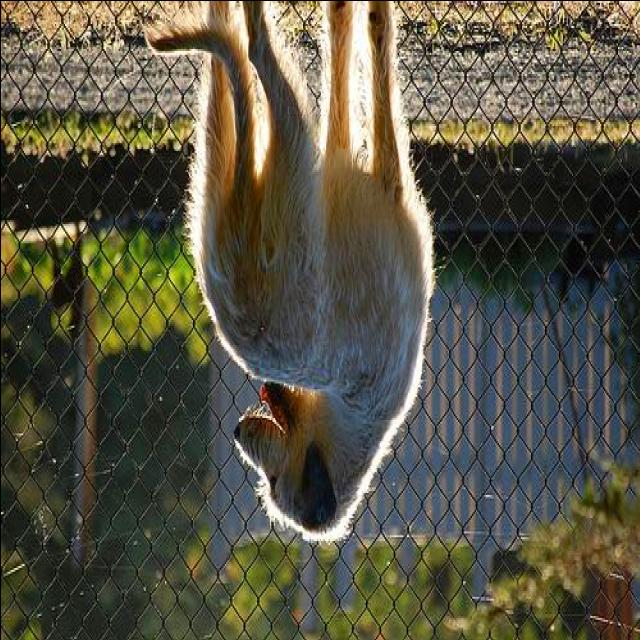irish_wolfhound: (137, 4, 434, 550)
